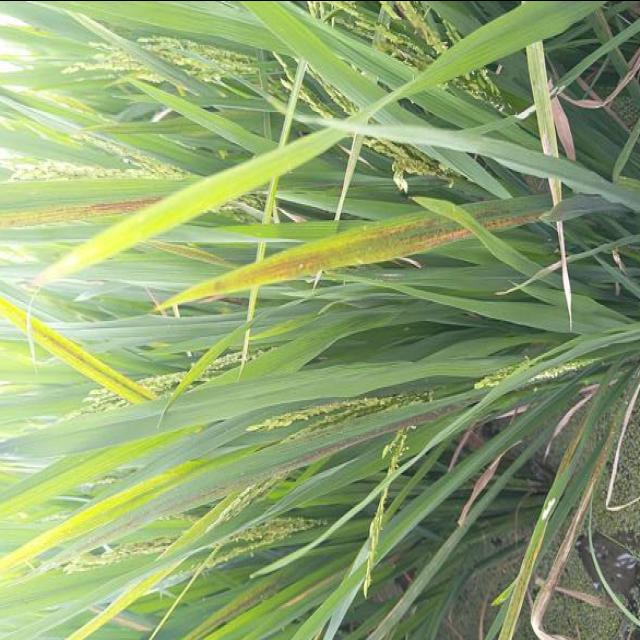Leaf Streak: (49, 389, 491, 564), (154, 210, 475, 311), (0, 293, 161, 403), (0, 196, 155, 227), (461, 193, 555, 231)
